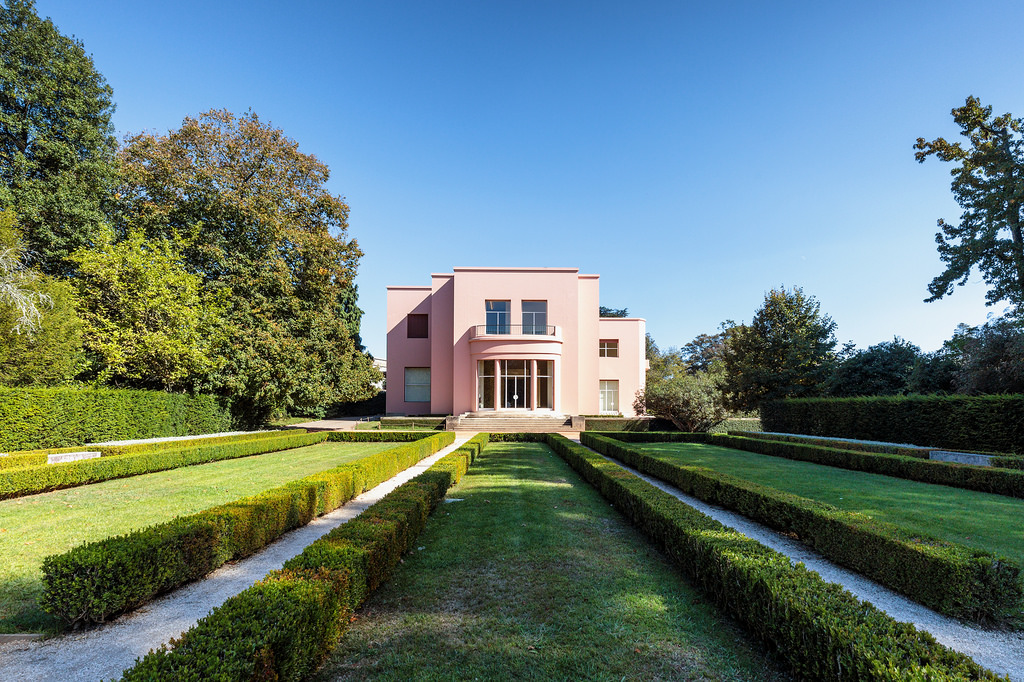serralves: (383, 266, 649, 419)
